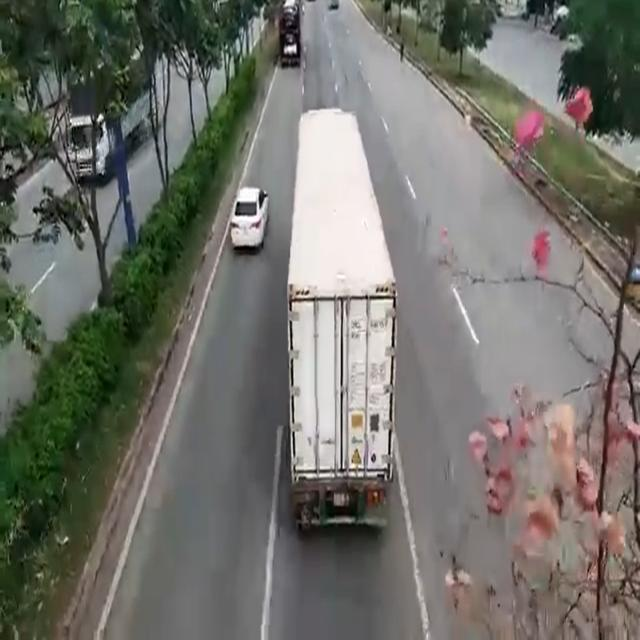car: (232, 184, 264, 248)
truck: (294, 110, 389, 520)
